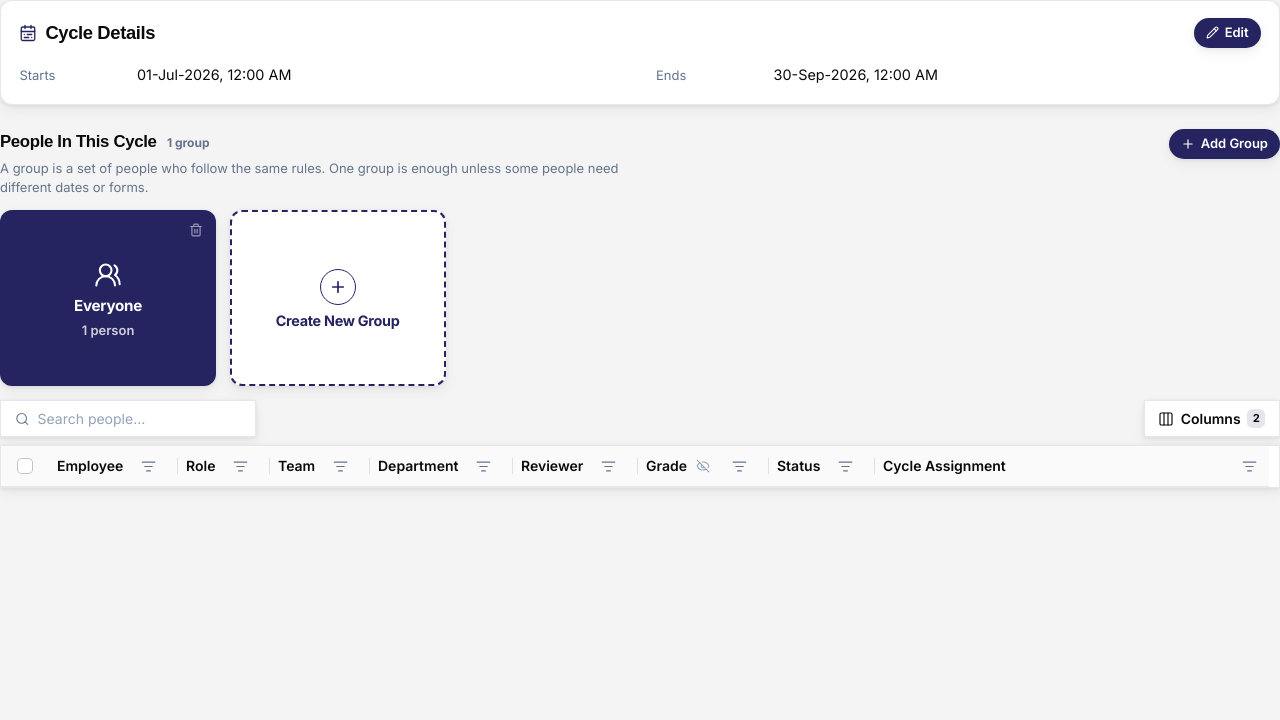
Scenario: CycleSettingsView › shows a success toast after deleting a group
Click the button named "Delete Everyone" at (196, 230), box [182,216,210,244]
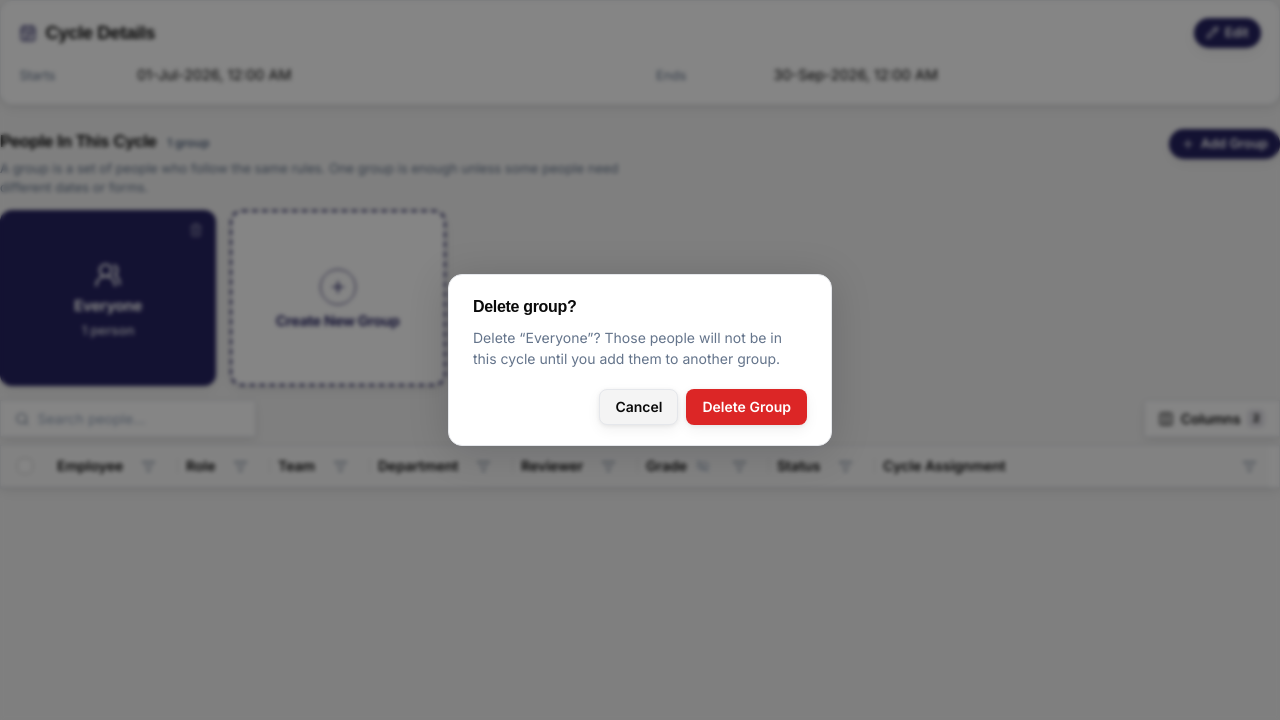
Click the button "Delete Group" at (747, 407), box [686,389,807,425]
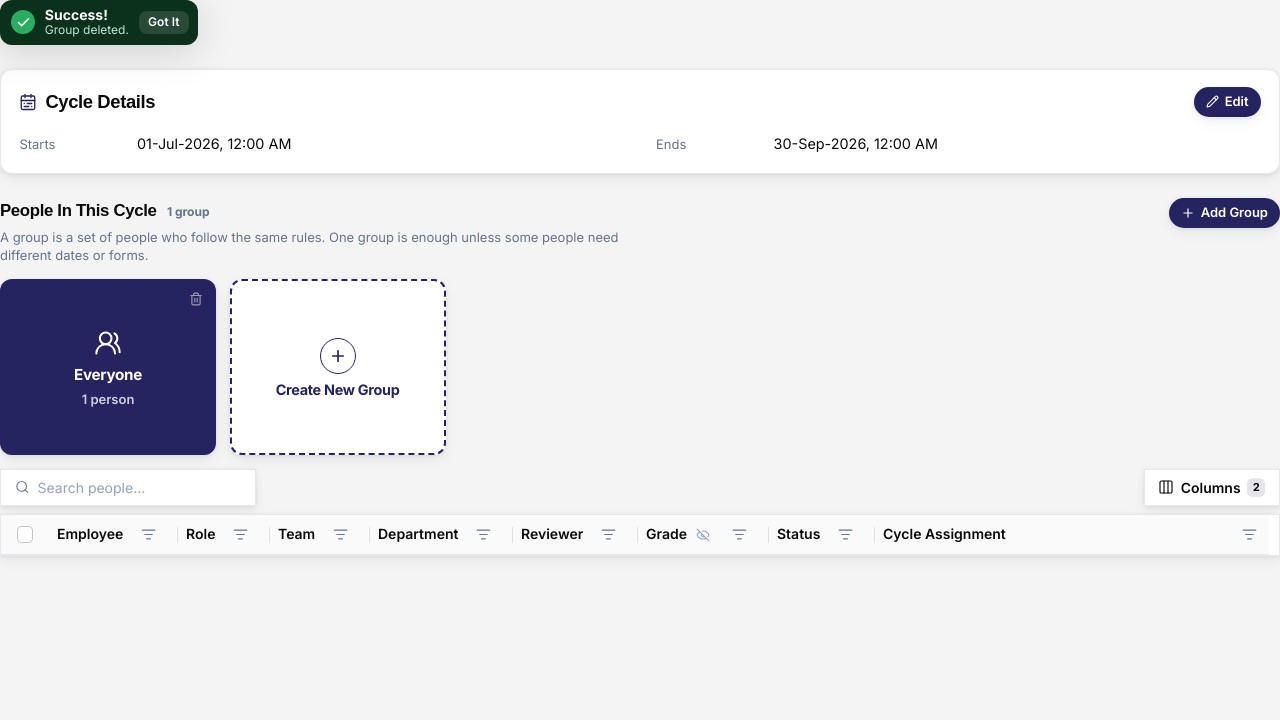
Now the message shows "Success!", box [45,6,108,23]
Now the message shows "Group deleted.", box [45,22,129,37]
